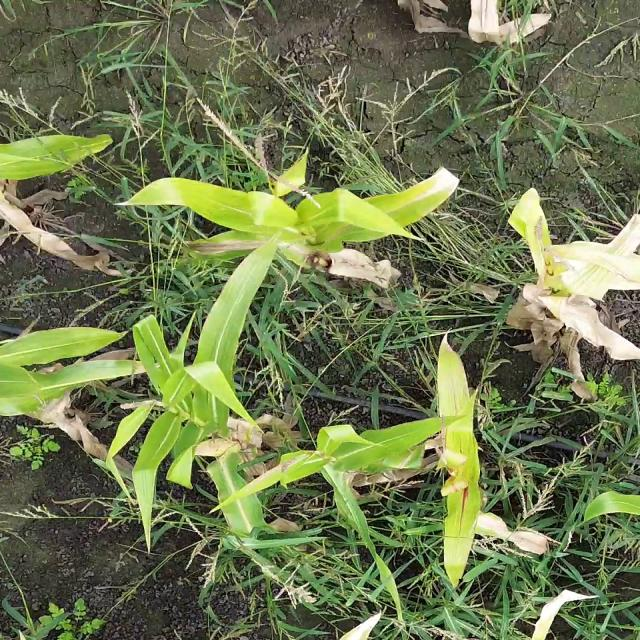northern-leaf-blight: (416, 422, 509, 552), (195, 455, 308, 536)
